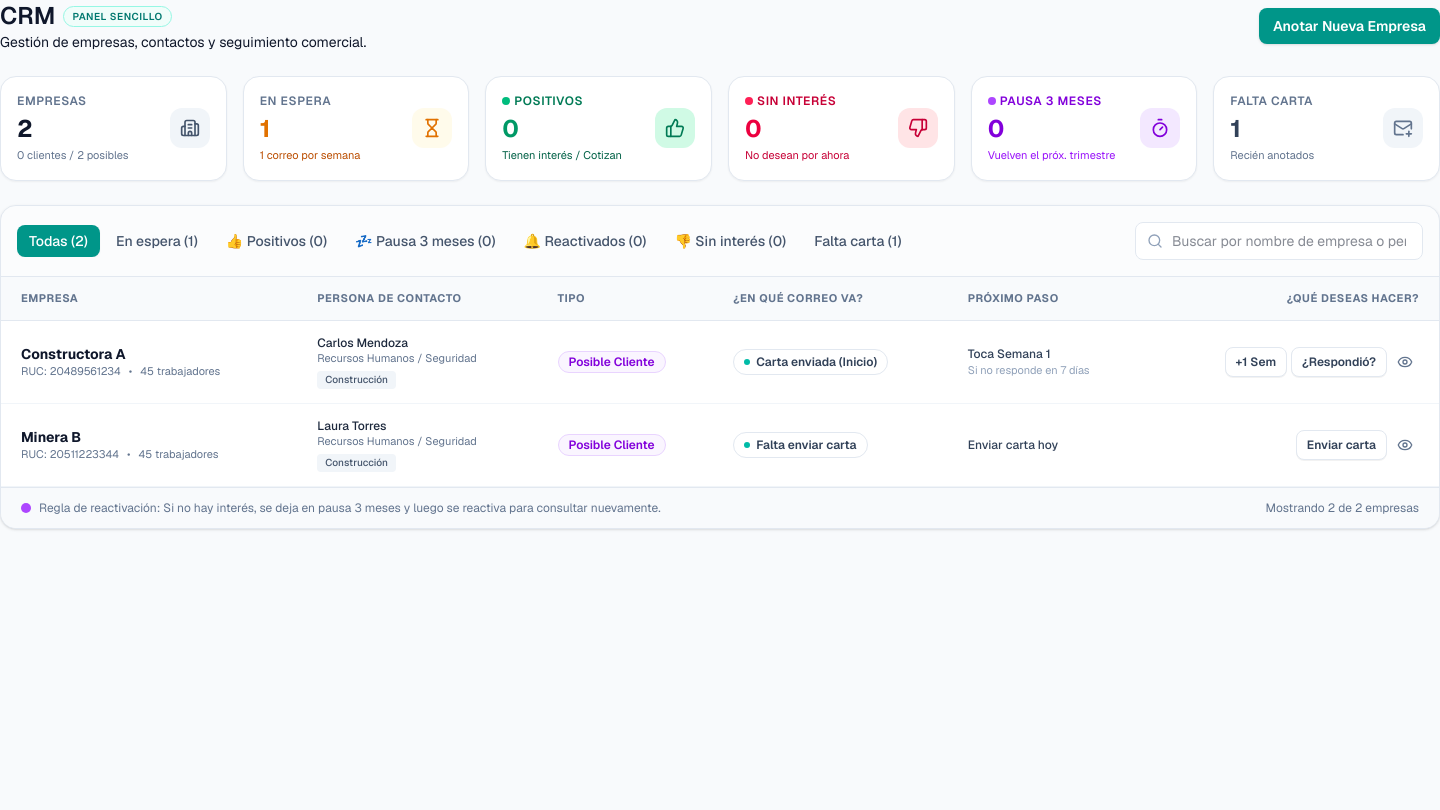
Test: PanelCrm — panel montado › opens the alta modal from the header CTA
Expected: the table is shown, 1,276 -> 1439,487
Click the button "Anotar Nueva Empresa": point(1350, 26) 1259,8 -> 1439,44
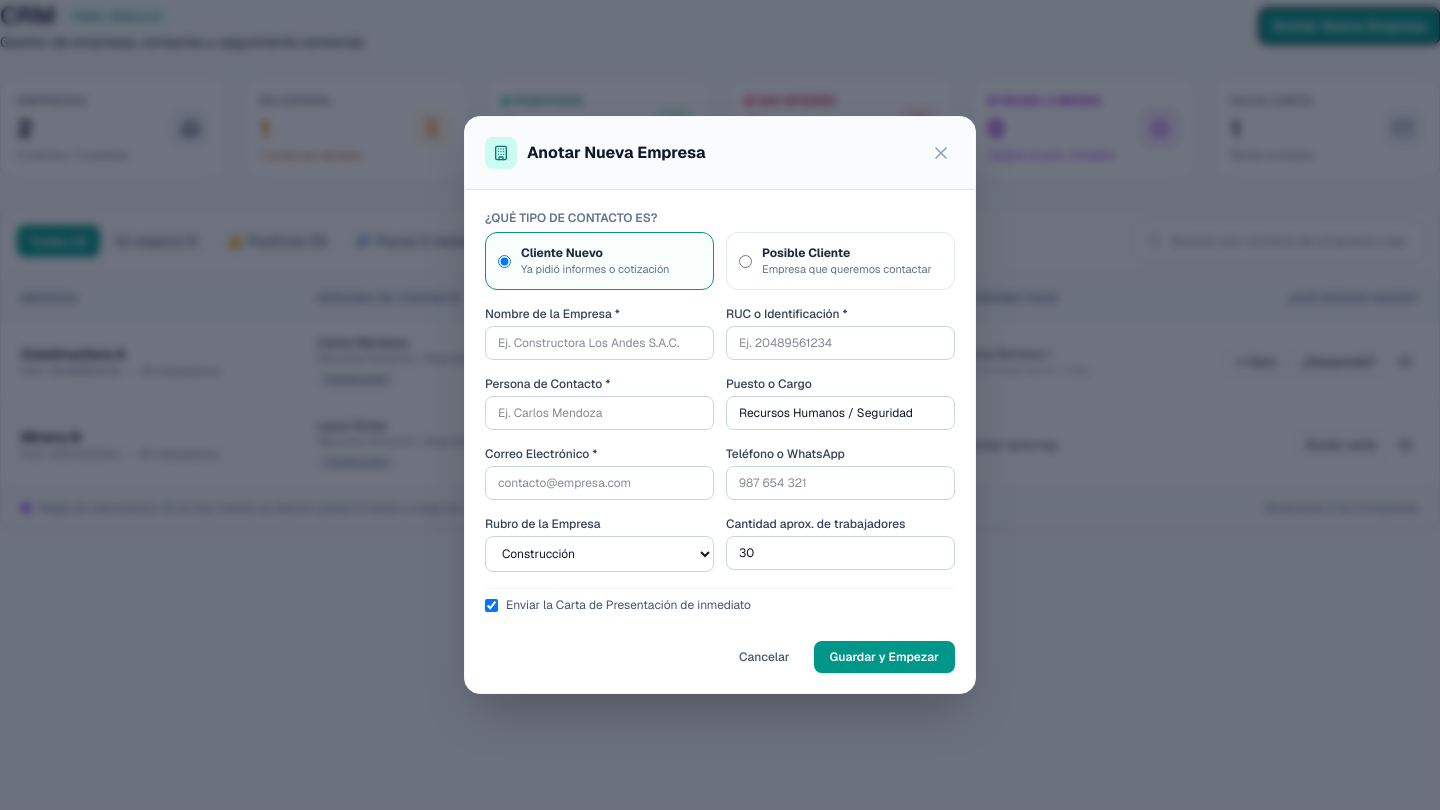
Result: the dialog "Anotar Nueva Empresa" is shown at 464,116 -> 976,694
